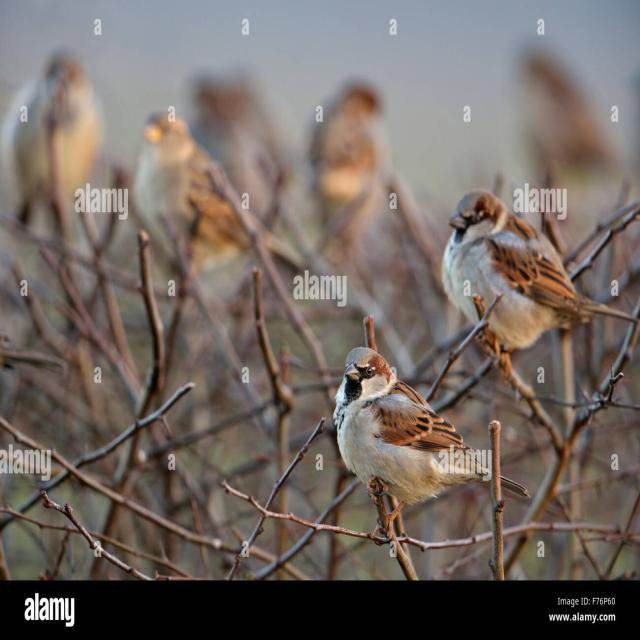bird: (442, 178, 600, 380), (334, 342, 494, 530)
